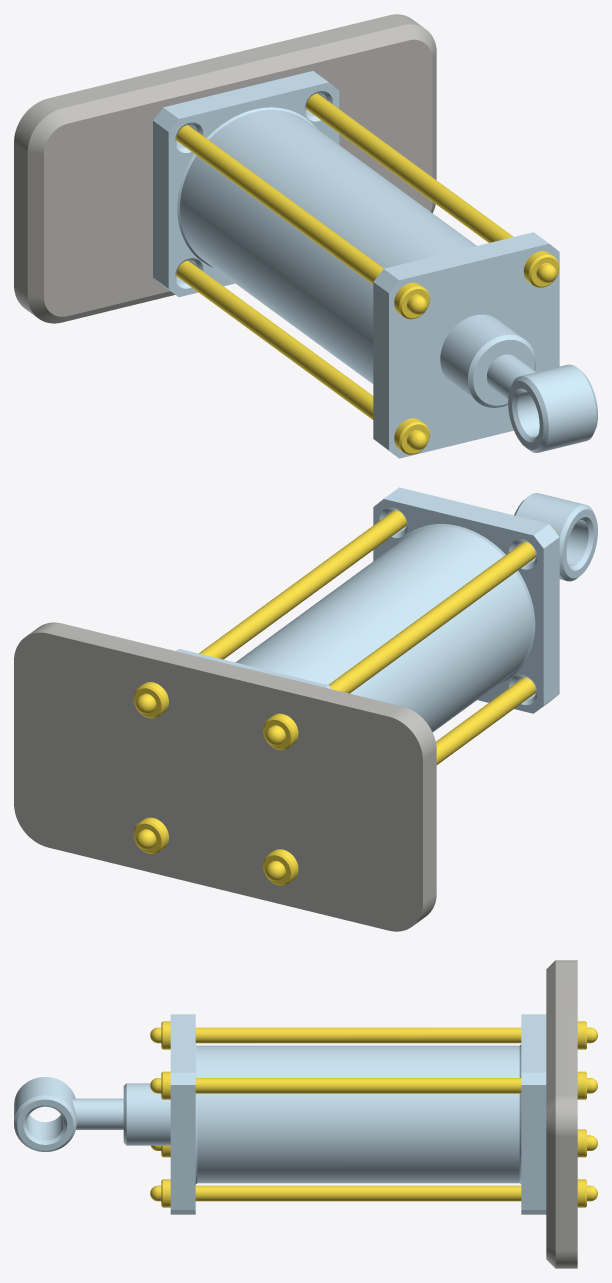
3 renders of one model, top to bottom at view 1: azimuth 30°, elevation 25°; view 2: azimuth 150°, elevation 25°; view 3: azimuth 270°, elevation 25°, orthographic. The views are drawn at different scales.
Parts seen in each view (by area): view 1: Part 1, Base Plate, Tie Rod; view 2: Base Plate, Part 1, Tie Rod; view 3: Part 1, Tie Rod, Base Plate.
Part boxes in pixels (box(x1,y1,x2,y2)): Part 1: box(153, 71, 597, 458); Base Plate: box(14, 14, 436, 323); Tie Rod: box(176, 93, 559, 454); Base Plate: box(14, 622, 436, 931); Part 1: box(176, 487, 597, 732); Tie Rod: box(133, 510, 556, 885); Part 1: box(14, 1014, 546, 1214); Tie Rod: box(150, 1021, 597, 1207); Base Plate: box(546, 960, 577, 1268).
Bounding box in the file's own units: 0.12 × 0.06 × 0.1865.
